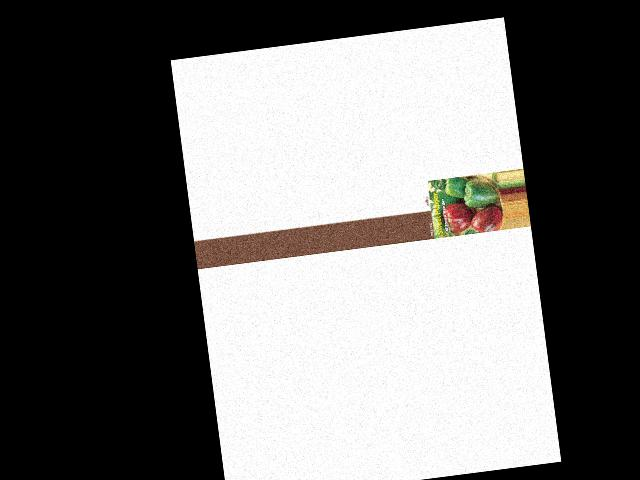bell_pepper: (441, 174, 474, 198)
